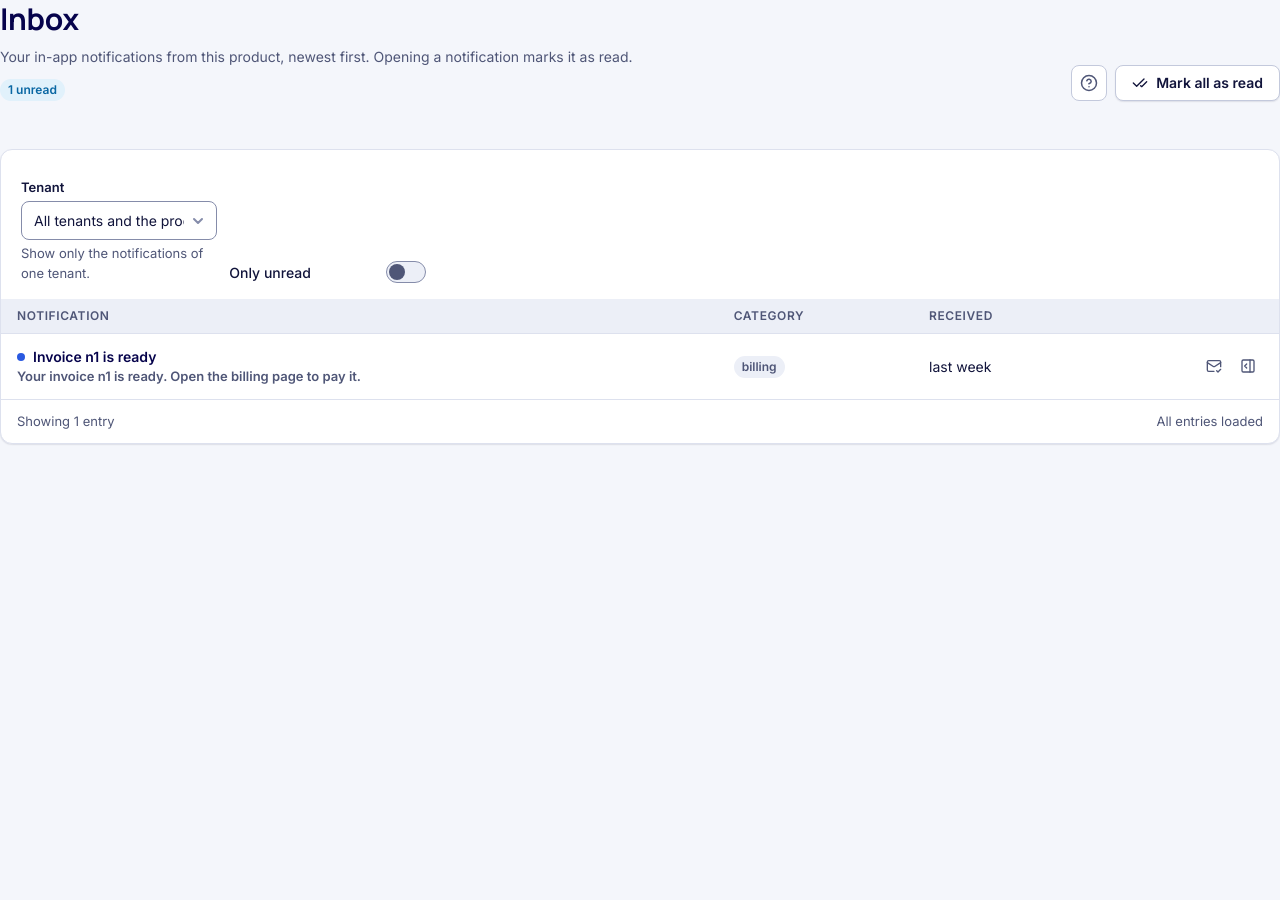
Scenario: InboxPage › opens a notification, shows its text and marks it as read
This screenshot has width=1280, height=900.
Click the button named "Open “Invoice n1 is ready”". click: (1248, 366)
box: [1233, 351, 1263, 381]
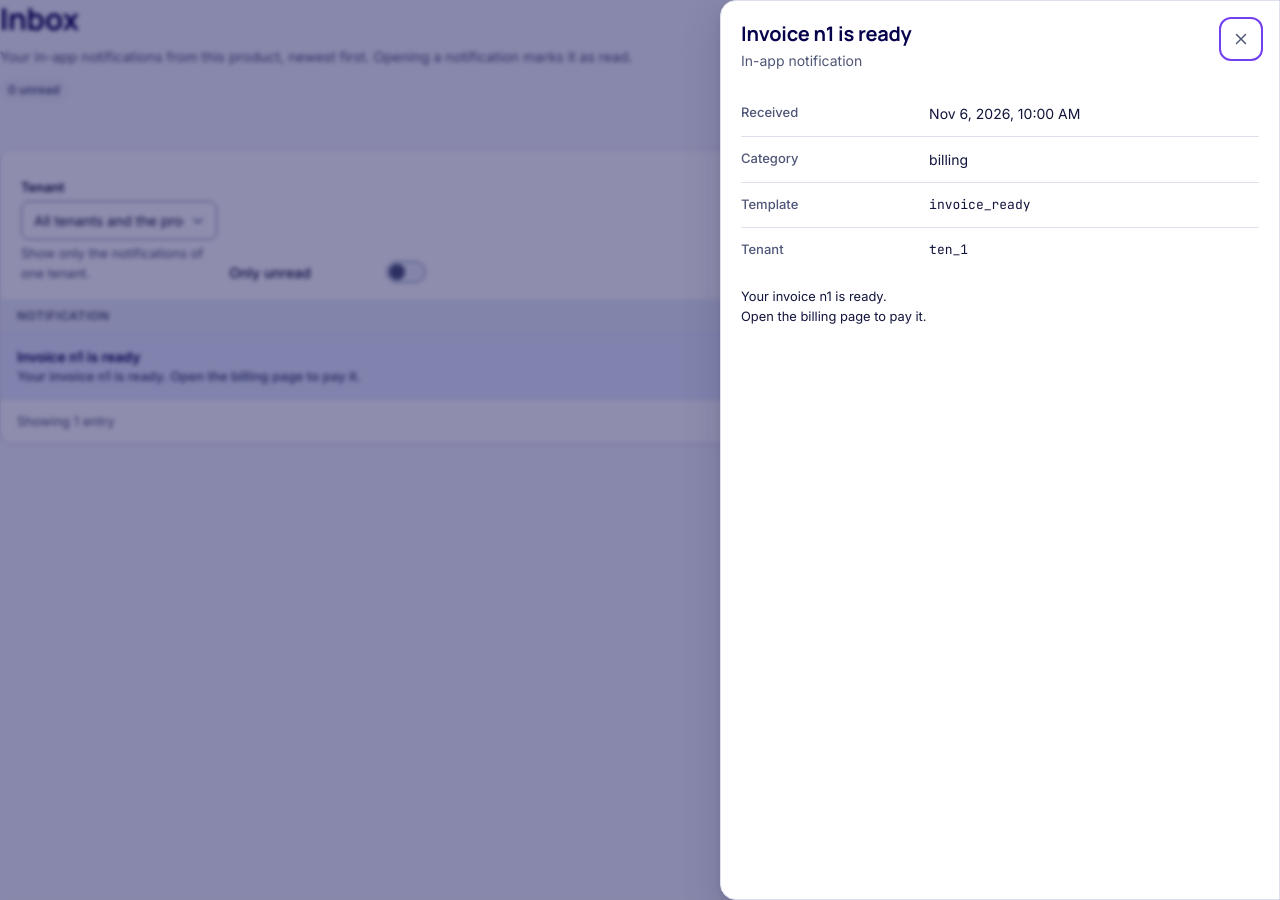
Now the text "Your invoice n1 is ready. Open the billing page to pay it." is shown, box [741, 289, 926, 324]
Now the text "invoice_ready" is shown, box [929, 196, 1030, 213]
Now the text "0 unread" is shown, box [0, 78, 68, 100]
